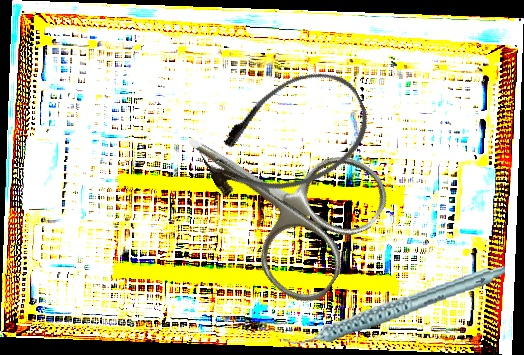Cannula: (188, 55, 384, 221)
Handpiece: (277, 264, 511, 347)
Iris Scissors: (148, 75, 398, 314)
